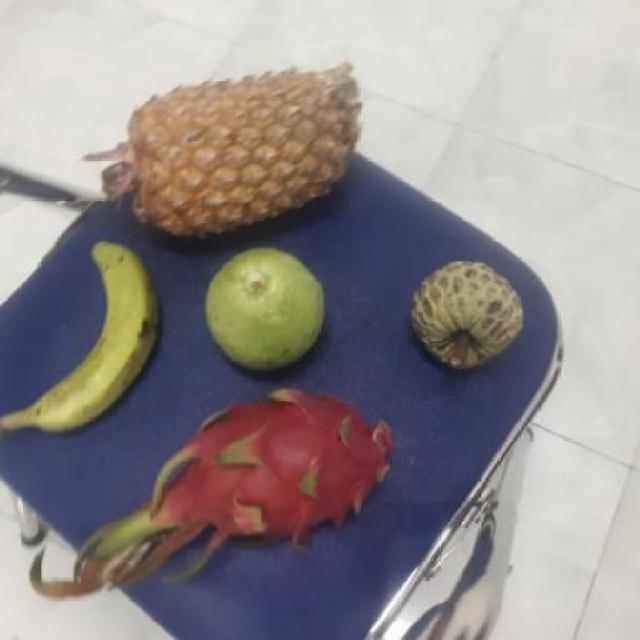banana: (28, 245, 165, 437)
dragon fruit: (154, 392, 408, 550)
guava: (205, 248, 330, 370)
pineapple: (125, 68, 358, 244)
sugar apple: (412, 259, 532, 373)
